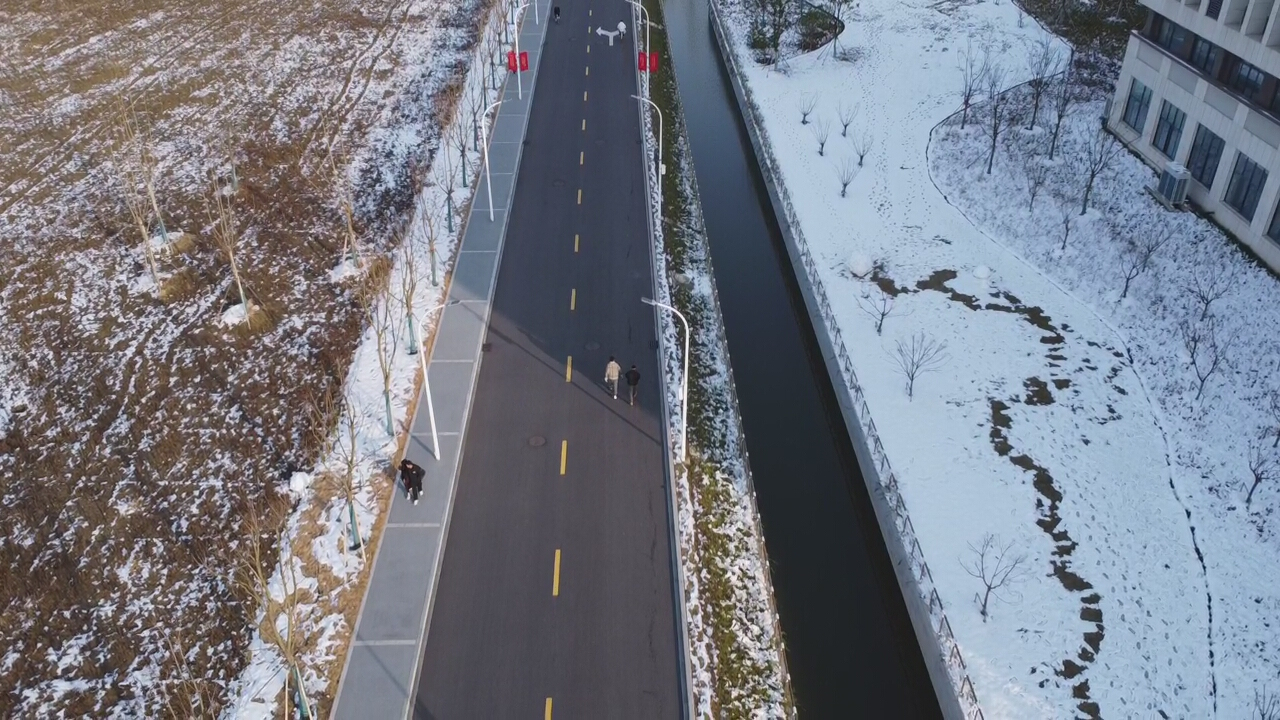person: (406, 459, 427, 503), (603, 356, 622, 401), (627, 362, 640, 405), (399, 458, 412, 499), (613, 18, 627, 41), (553, 4, 562, 23)
